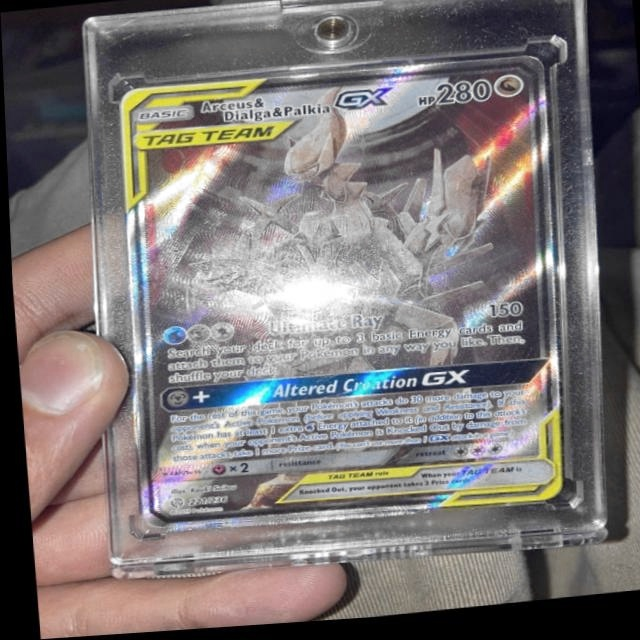card: (117, 61, 569, 529)
